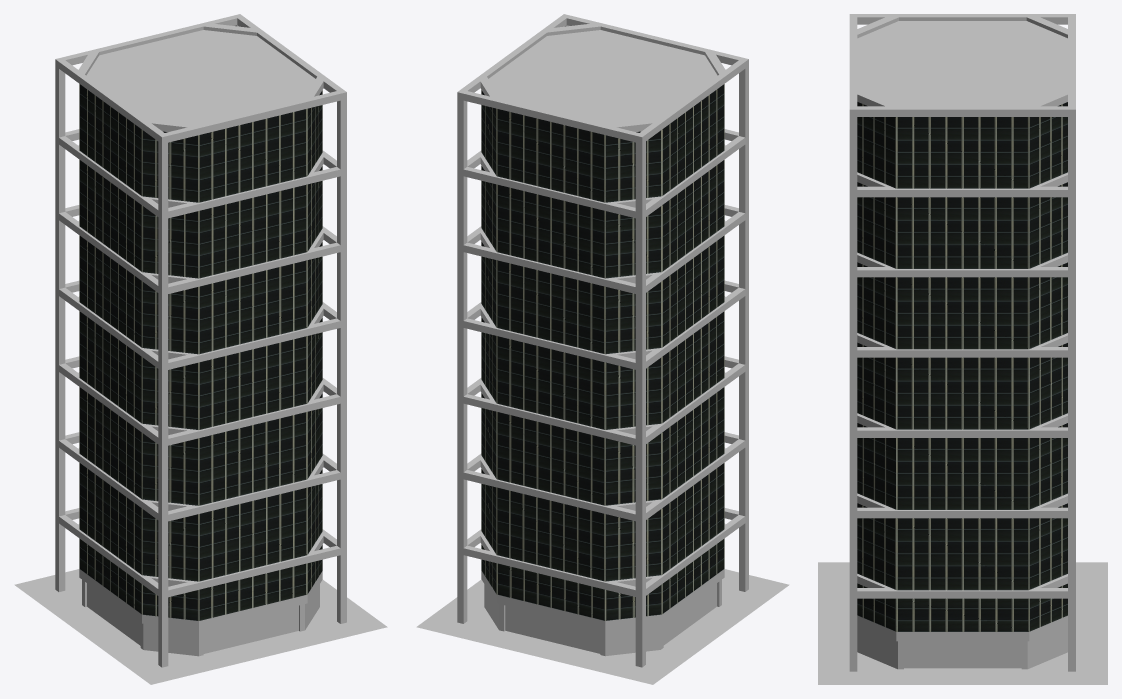
The picture shows the model from 3 angles, left to right: view 1: azimuth 30°, elevation 25°; view 2: azimuth 150°, elevation 25°; view 3: azimuth 270°, elevation 25°; orthographic projection. The views are drawn at different scales.
Parts seen in each view (by area): view 1: BC-010; view 2: BC-010; view 3: BC-010.
Part boxes in pixels (x1,y1,x2,y2): BC-010: (14,14,387,684); BC-010: (416,14,789,684); BC-010: (818,14,1107,684).
Size of what is drawn, in the model's own units: 36 by 77 by 36.
